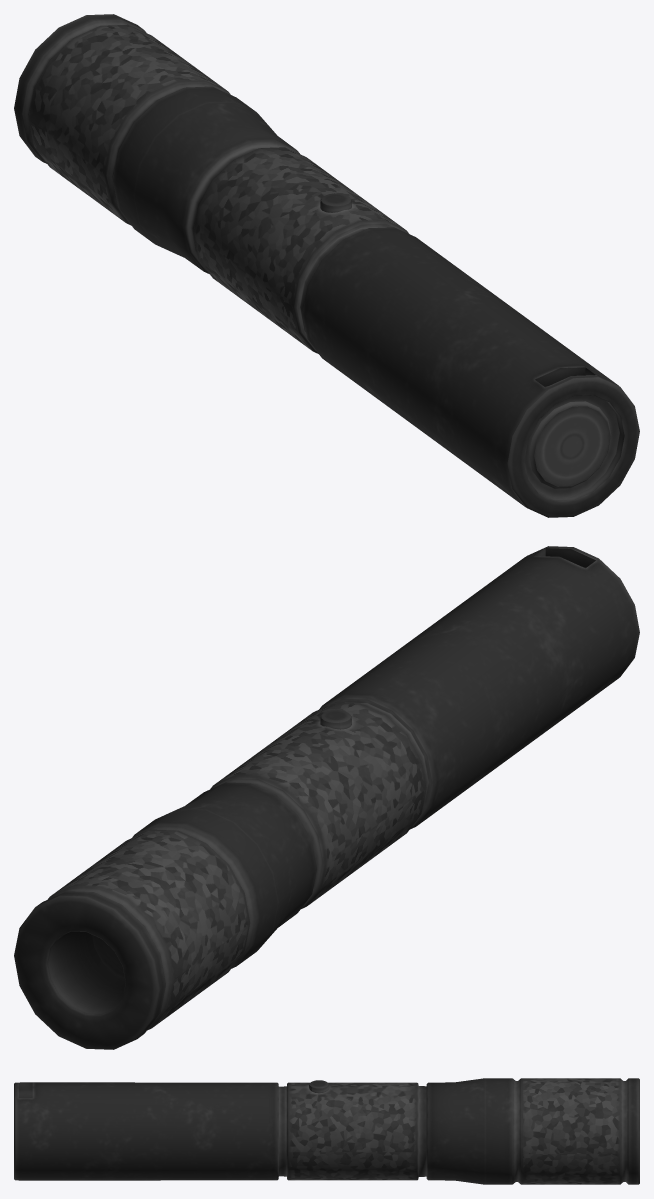
File: laser-2.glb
3 renders of one model, top to bottom at view 1: azimuth 30°, elevation 25°; view 2: azimuth 150°, elevation 25°; view 3: azimuth 270°, elevation 25°, orthographic. The views are drawn at different scales.
Parts seen in each view (by area): view 1: laser-2; view 2: laser-2; view 3: laser-2.
Boxes of the visible parts, box(x1,y1,x2,y2) form: laser-2: box(14, 14, 639, 517); laser-2: box(14, 546, 639, 1049); laser-2: box(14, 1078, 639, 1184).
Bounding box in the file's own units: 0.0447 × 0.0447 × 0.2619.
Materials: 1 (1 with a texture image).
